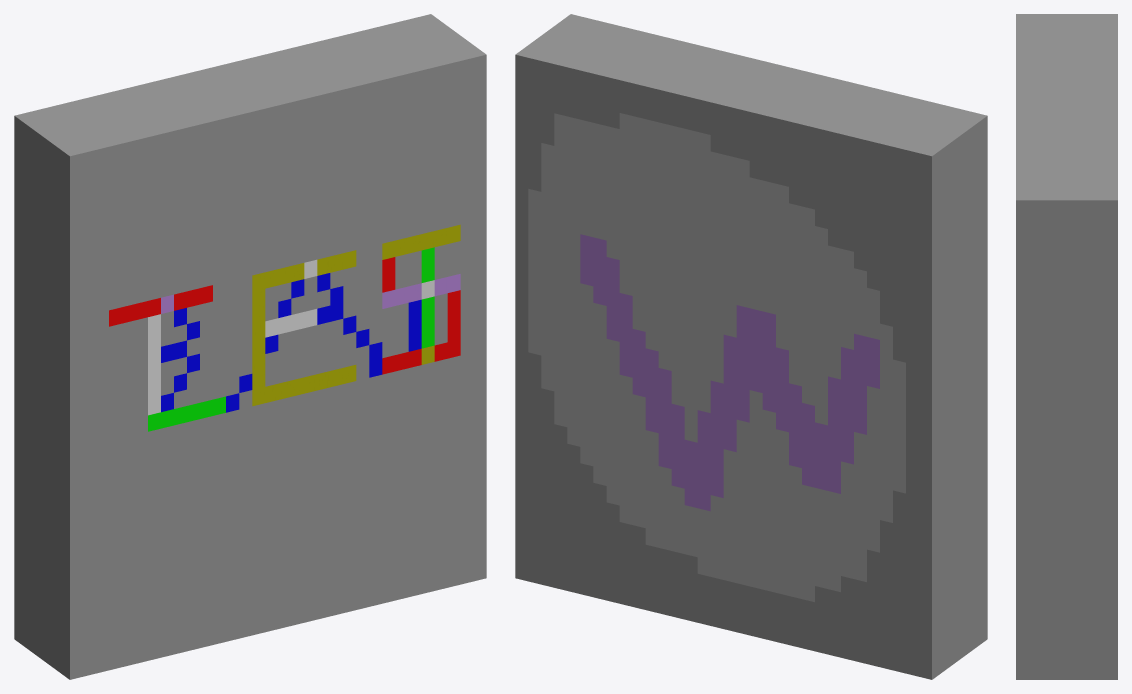
File: test_pizzle_rgb.glb
3 views of the same model, side by side, from view 1: azimuth 30°, elevation 25°; view 2: azimuth 150°, elevation 25°; view 3: azimuth 270°, elevation 25° (orthographic). The views are drawn at different scales.
Visible parts, largest first — view 1: Cube; view 2: Cube; view 3: Cube.
Boxes of the visible parts, x1,y1,x2,y2 form: Cube: (14, 14, 486, 679); Cube: (515, 14, 987, 679); Cube: (1016, 14, 1117, 679).
Bounding box in the file's own units: 11.61 × 13.94 × 2.68.
